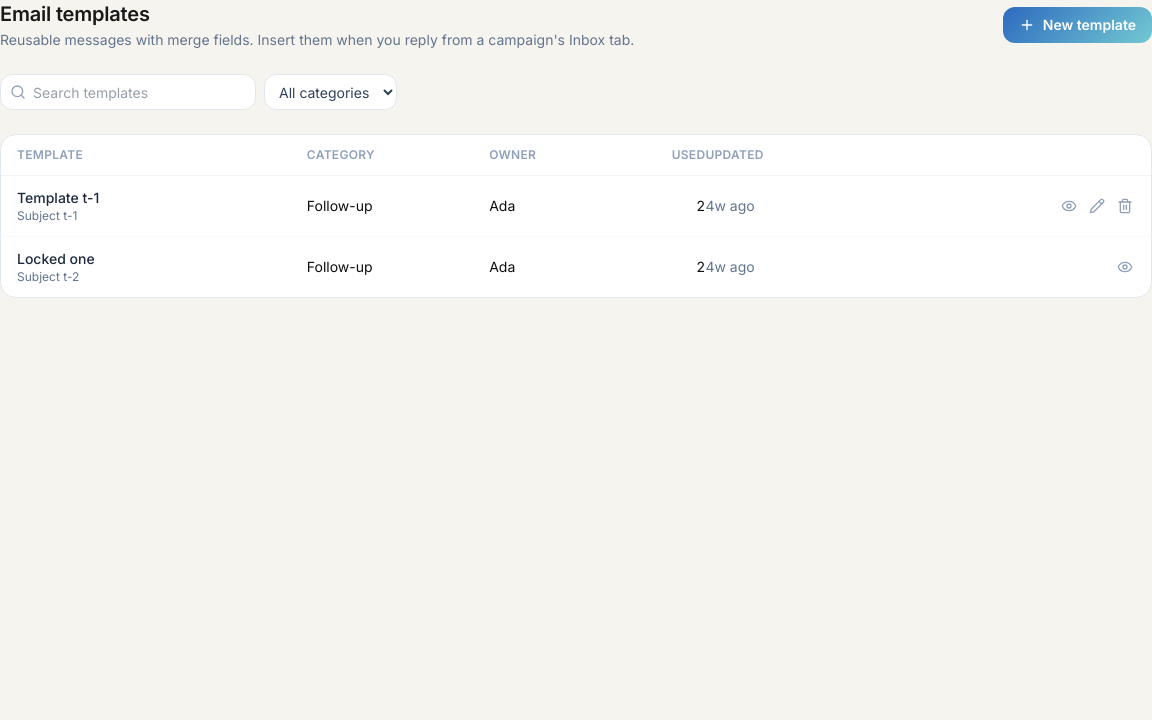
Scenario: TemplateLibrary page › opens the new-template dialog
The image size is (1152, 720).
expect the text "Template t-1" is shown: met, box [17,189,99,206]
Click the button "New template" at (1077, 25), box [1003,7,1151,43]
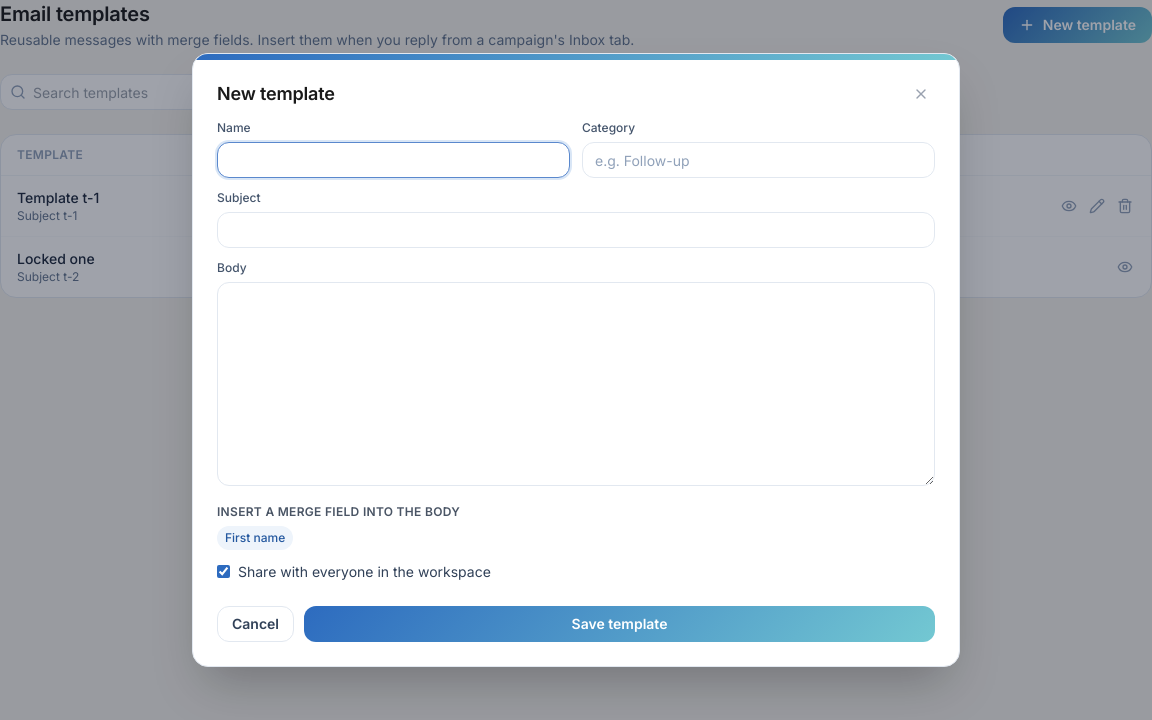
expect the button "First name" is shown: met, box [217,526,293,550]
